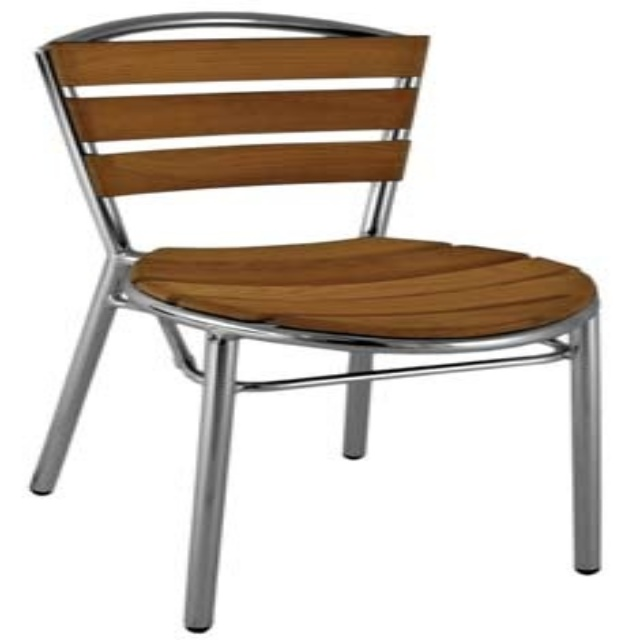obstacle: (30, 11, 599, 630)
